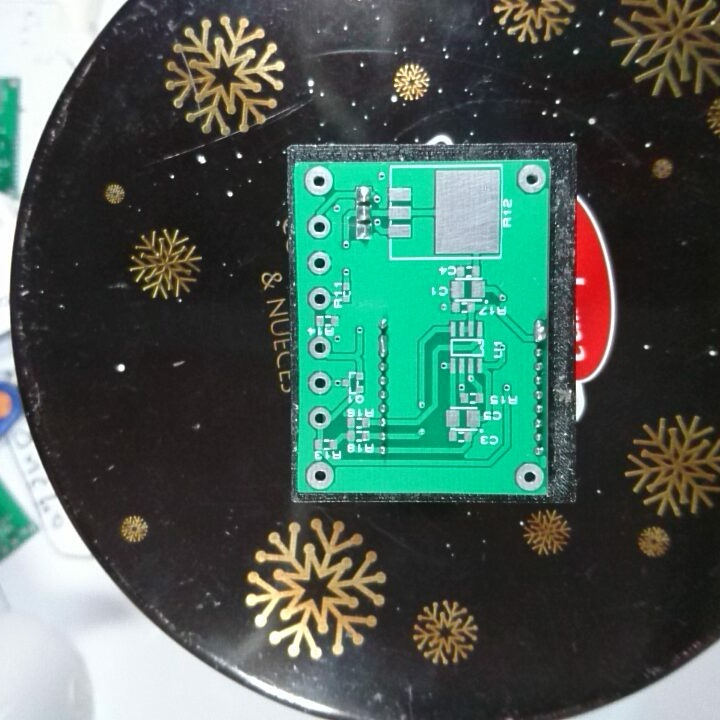F: (515, 162, 548, 196), (513, 459, 545, 493), (302, 164, 334, 197), (305, 459, 337, 491), (305, 403, 337, 433), (306, 332, 334, 363), (305, 283, 334, 312), (305, 213, 333, 240), (306, 249, 334, 276), (306, 369, 334, 395)
P: (531, 315, 548, 346), (376, 331, 391, 360)
